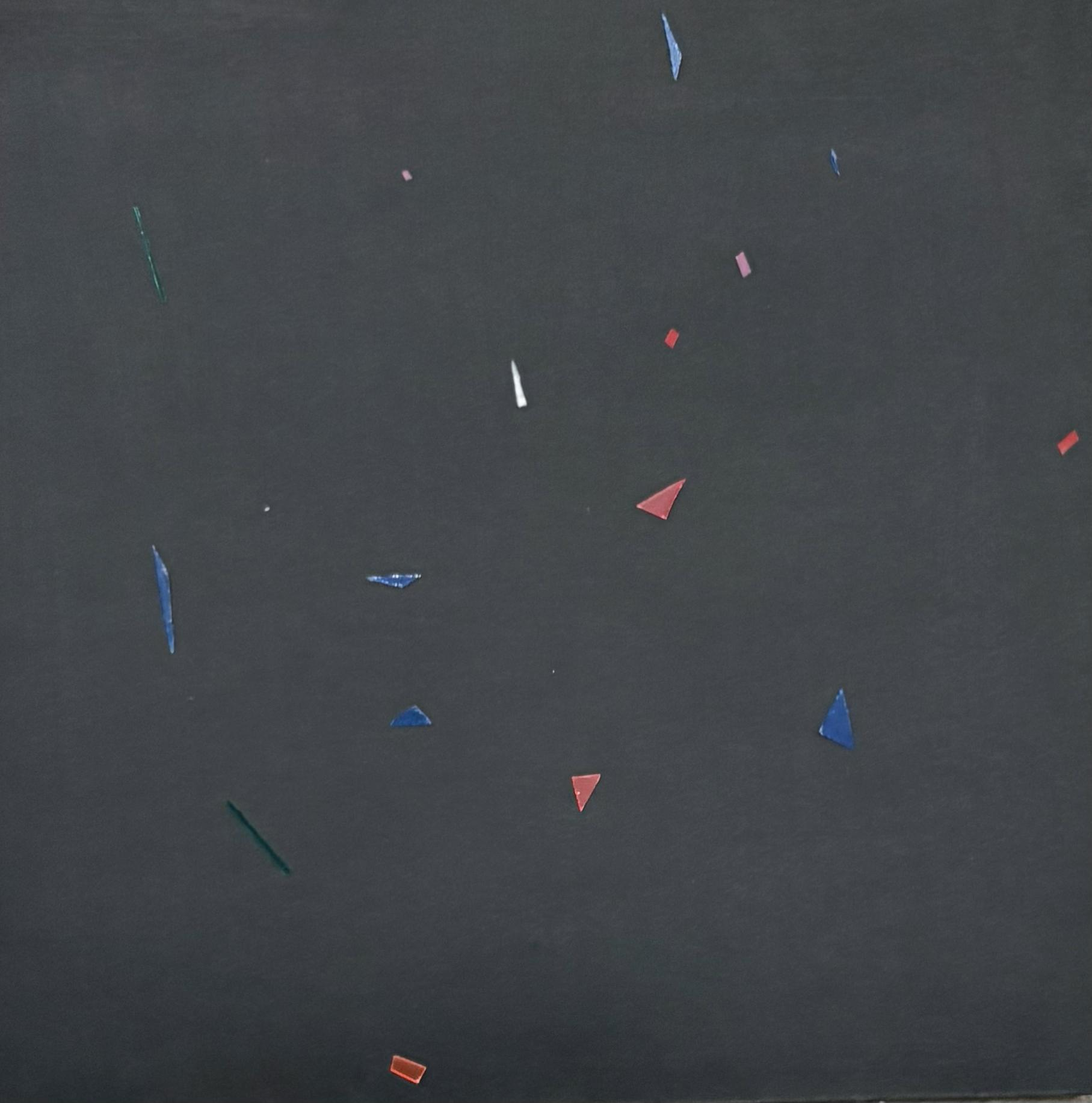Microplastic Particle: (224, 797, 291, 875), (143, 504, 172, 653), (131, 202, 165, 303), (818, 688, 853, 748), (636, 478, 685, 519), (661, 9, 682, 81), (570, 773, 600, 811), (389, 1056, 426, 1084), (389, 705, 431, 727), (510, 358, 528, 408), (366, 573, 421, 589), (1057, 430, 1079, 455), (735, 250, 750, 277), (828, 147, 841, 177), (664, 327, 679, 348), (401, 168, 412, 182), (585, 506, 591, 514), (264, 505, 270, 511), (188, 696, 194, 700), (551, 670, 555, 673)
